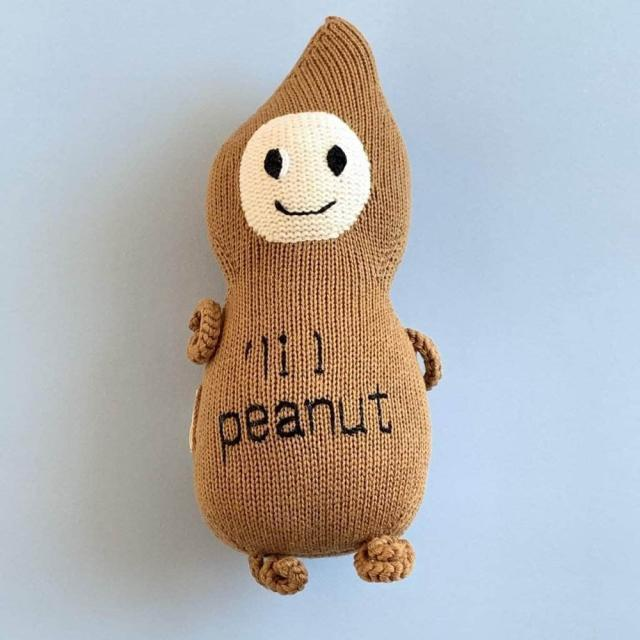soft-toy: (189, 19, 442, 595)
